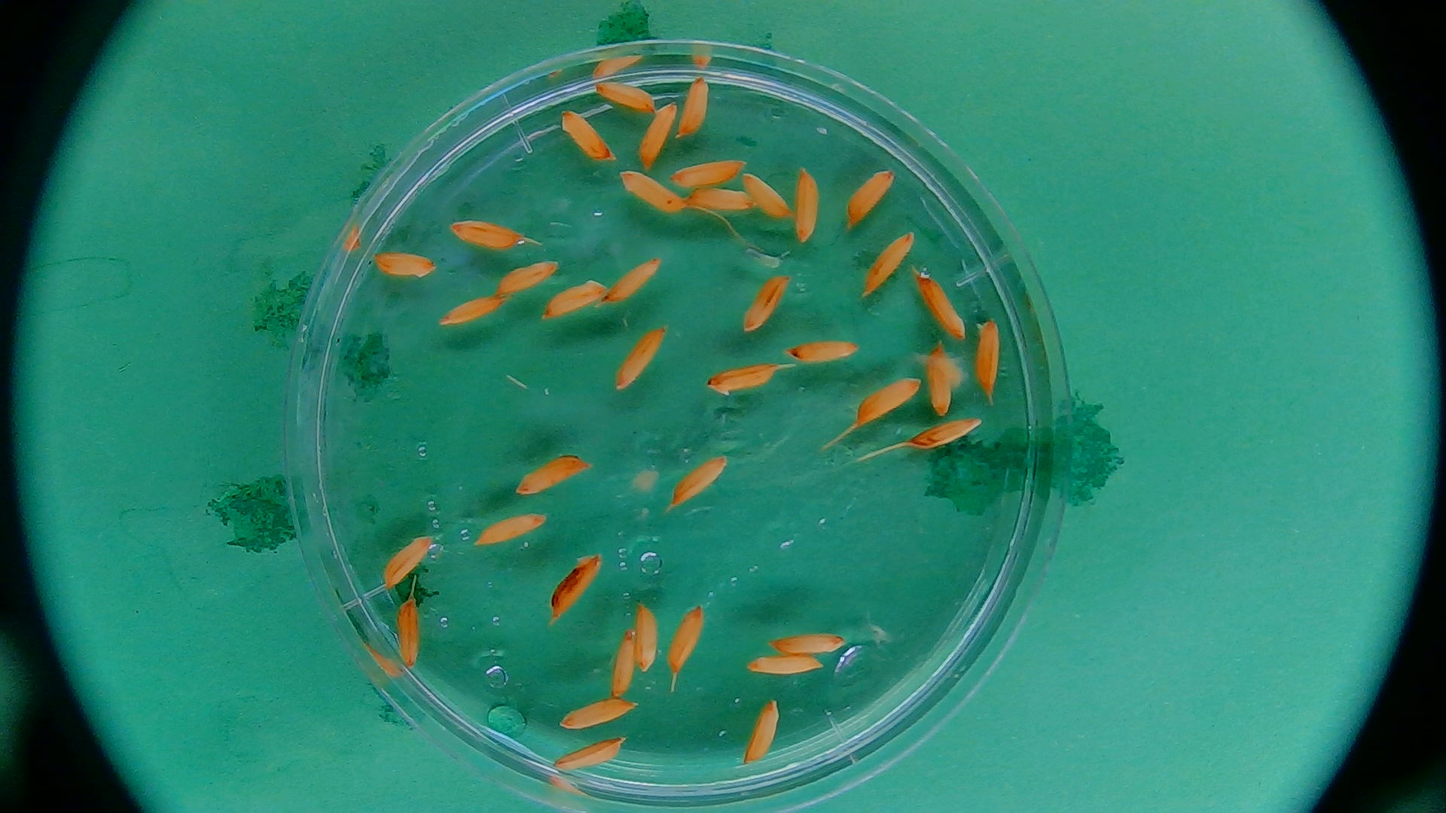no: (912, 261, 969, 344), (556, 101, 618, 169), (862, 224, 915, 302), (548, 553, 602, 617), (856, 373, 922, 425), (615, 324, 665, 391), (513, 449, 584, 495), (672, 455, 728, 513), (382, 532, 438, 590), (544, 276, 612, 322), (388, 592, 423, 681), (555, 693, 639, 730), (769, 623, 853, 660), (844, 168, 894, 230), (639, 95, 679, 172), (685, 181, 761, 221), (738, 269, 787, 329), (745, 163, 793, 224), (619, 170, 685, 214), (496, 255, 561, 299), (673, 76, 717, 139), (664, 156, 748, 189), (599, 258, 660, 303), (592, 68, 653, 113), (474, 513, 548, 548), (453, 219, 520, 257), (708, 359, 780, 394), (792, 166, 825, 242), (436, 291, 509, 325), (667, 605, 703, 673), (926, 334, 956, 413), (607, 623, 637, 700), (782, 336, 863, 364), (910, 419, 982, 450), (747, 697, 777, 766), (374, 247, 438, 279), (629, 598, 657, 671), (972, 321, 1001, 388), (743, 653, 823, 675)
